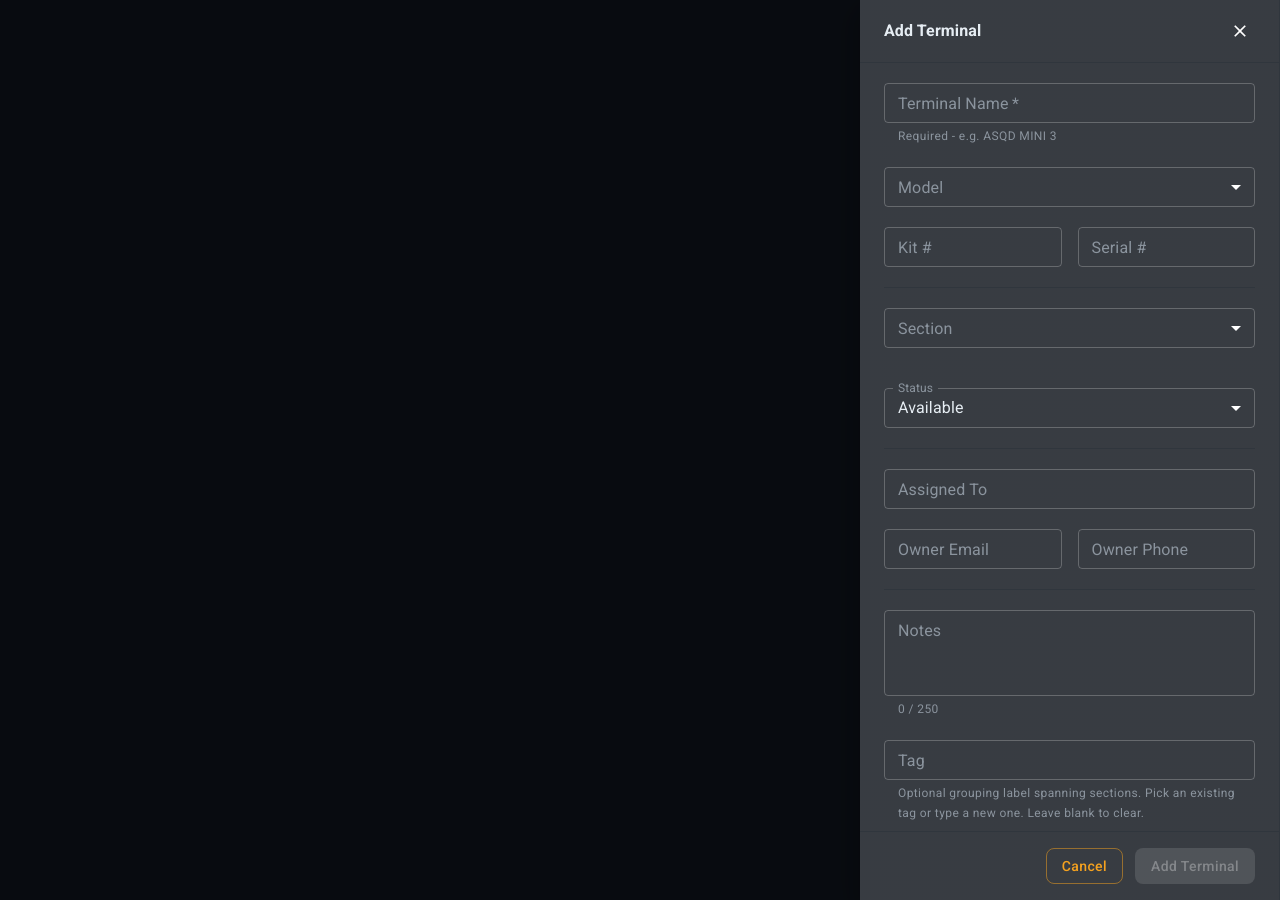
Test: an edit with no terminal › neither updates nor creates on submit
Step 1. Type "OW-10-001" into the field labelled "Terminal Name *" → (1070, 103), box [884,83,1255,123]
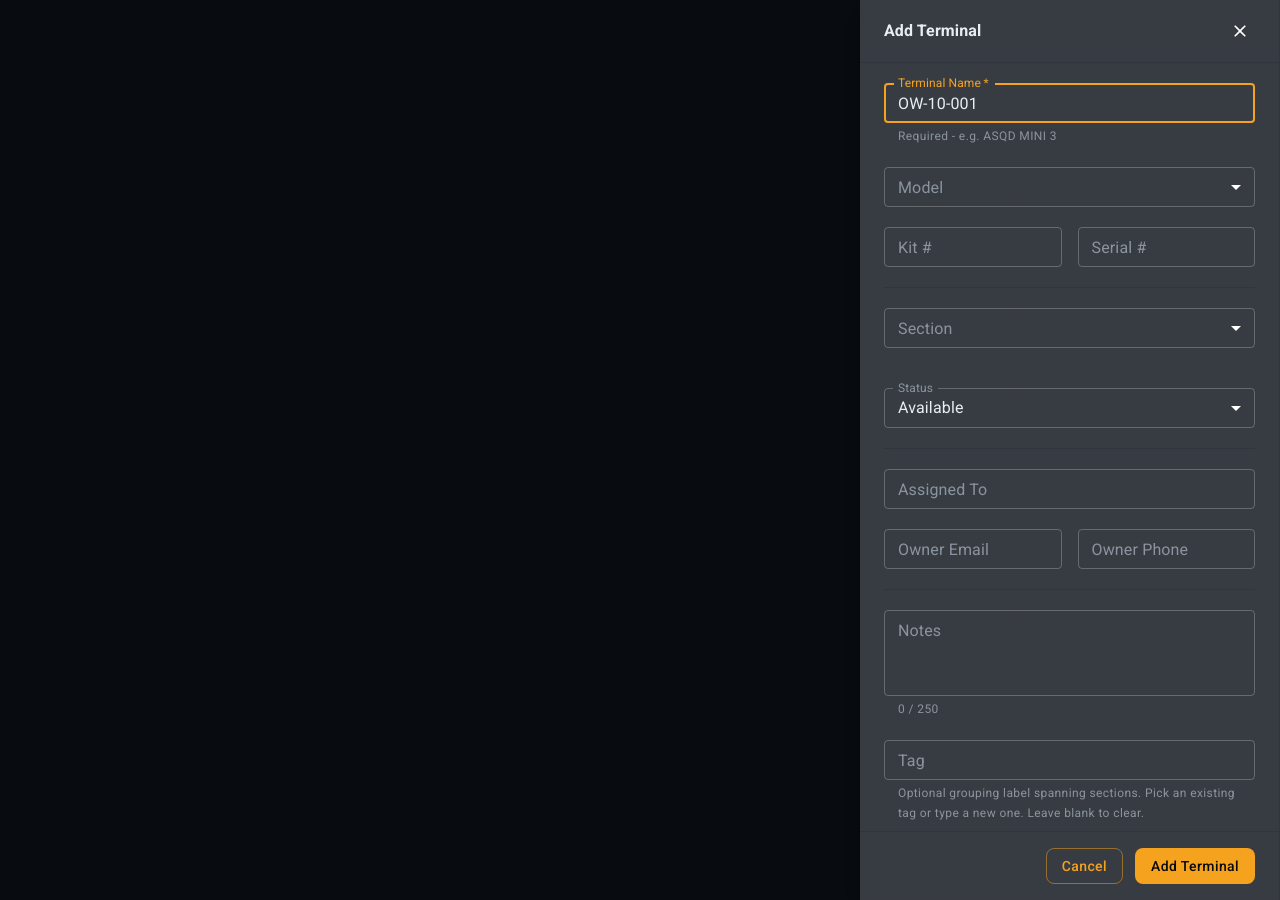
Step 2. Click the button "Add Terminal" → (1195, 866), box [1135,848,1255,884]
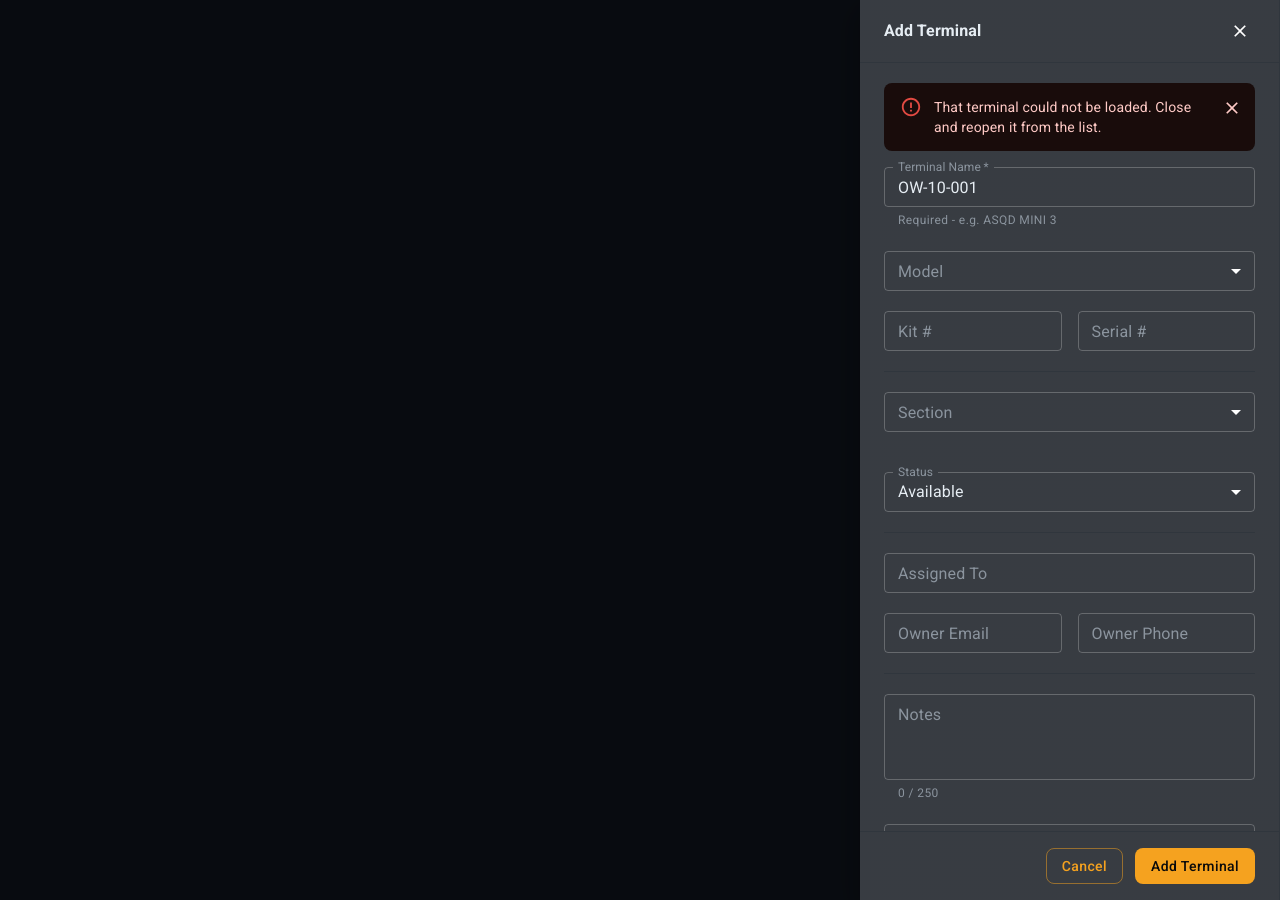
Check: the text "could not be loaded" is shown, box [934,99,1191,135]
